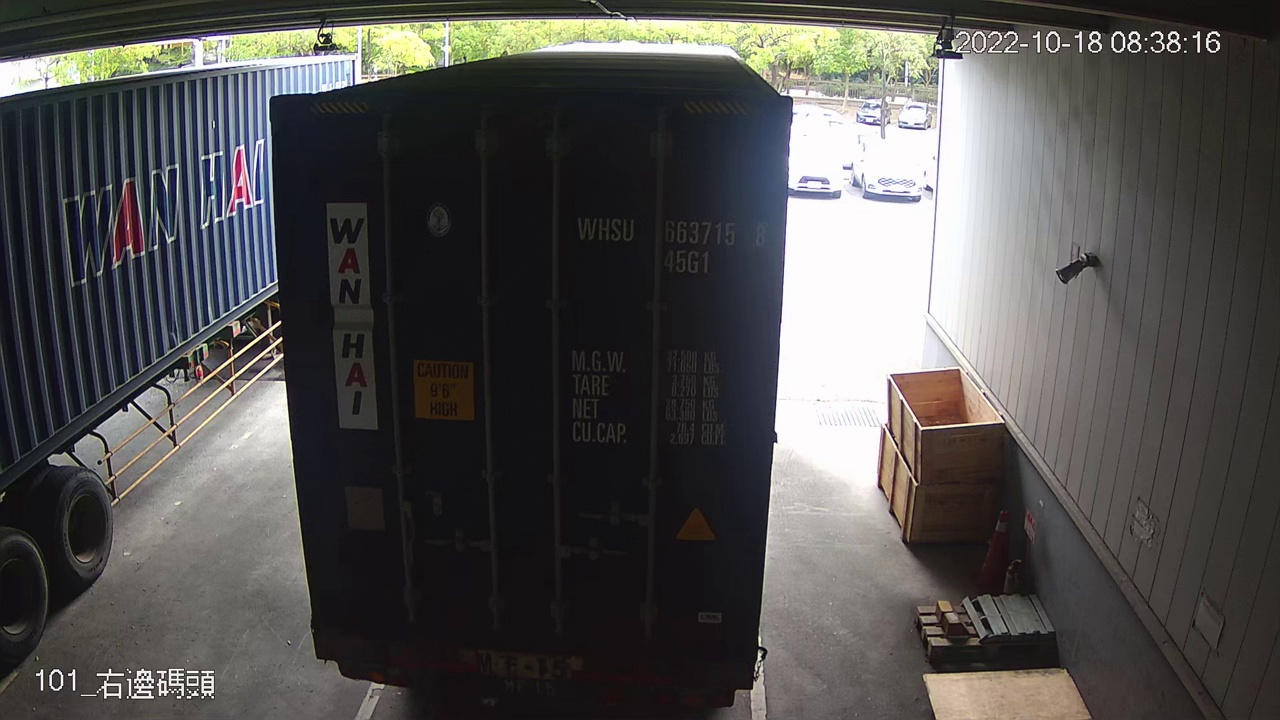container: (570, 207, 775, 279)
